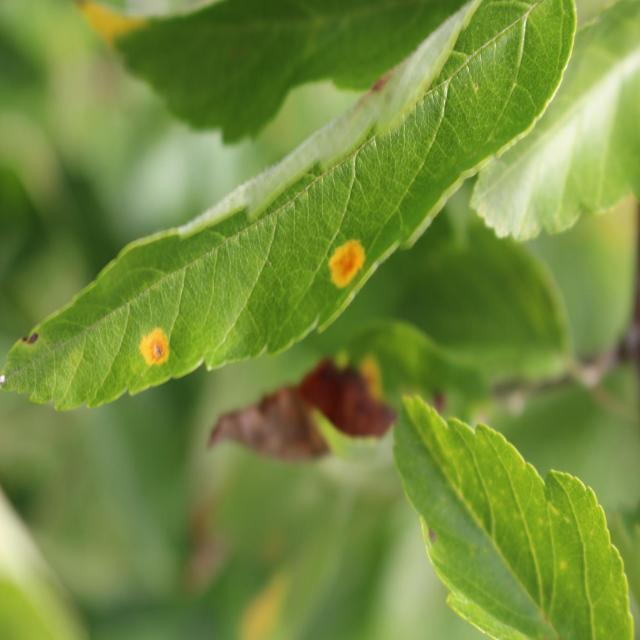Rust: (313, 238, 388, 292), (124, 317, 186, 373)
